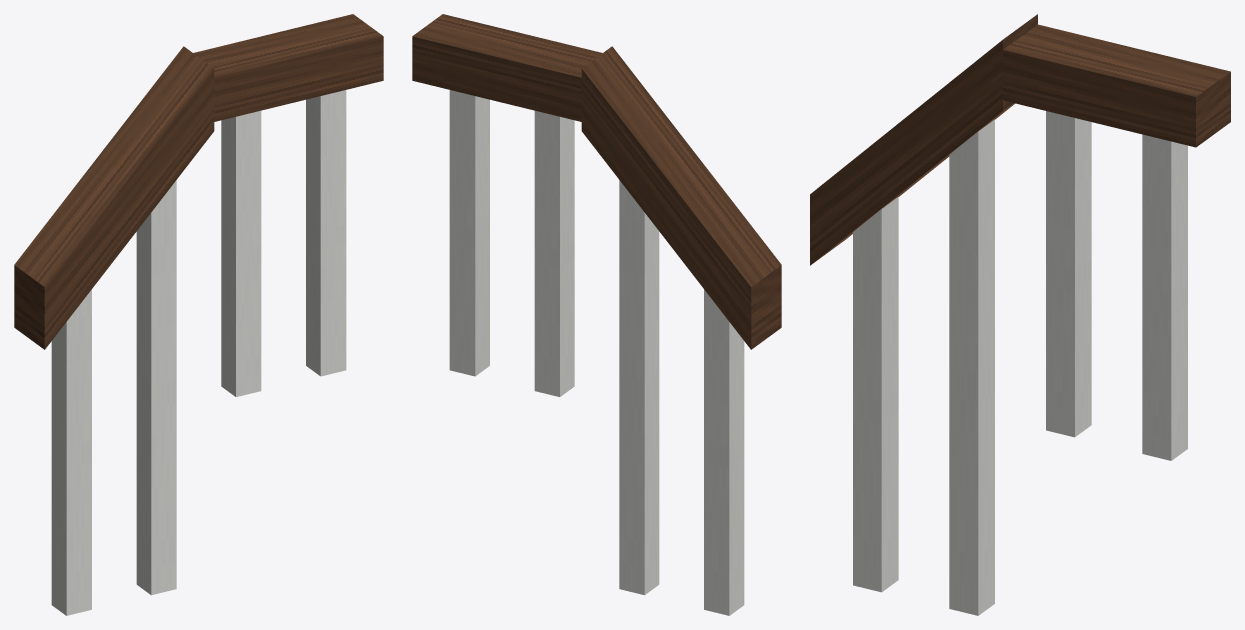
The model's file is top_pos.obj.
3 views of the same model, side by side, from view 1: azimuth 30°, elevation 25°; view 2: azimuth 150°, elevation 25°; view 3: azimuth 330°, elevation 25° (orthographic). The views are drawn at different scales.
Visible parts, largest first — view 1: railing_baluster_walnut_top_pos; view 2: railing_baluster_walnut_top_pos; view 3: railing_baluster_walnut_top_pos.
Boxes of the visible parts, x1,y1,x2,y2 form: railing_baluster_walnut_top_pos: [14, 14, 383, 615]; railing_baluster_walnut_top_pos: [412, 14, 781, 615]; railing_baluster_walnut_top_pos: [810, 14, 1230, 615].
Size of the model in its own units: 1 by 1.46 by 0.1562.
